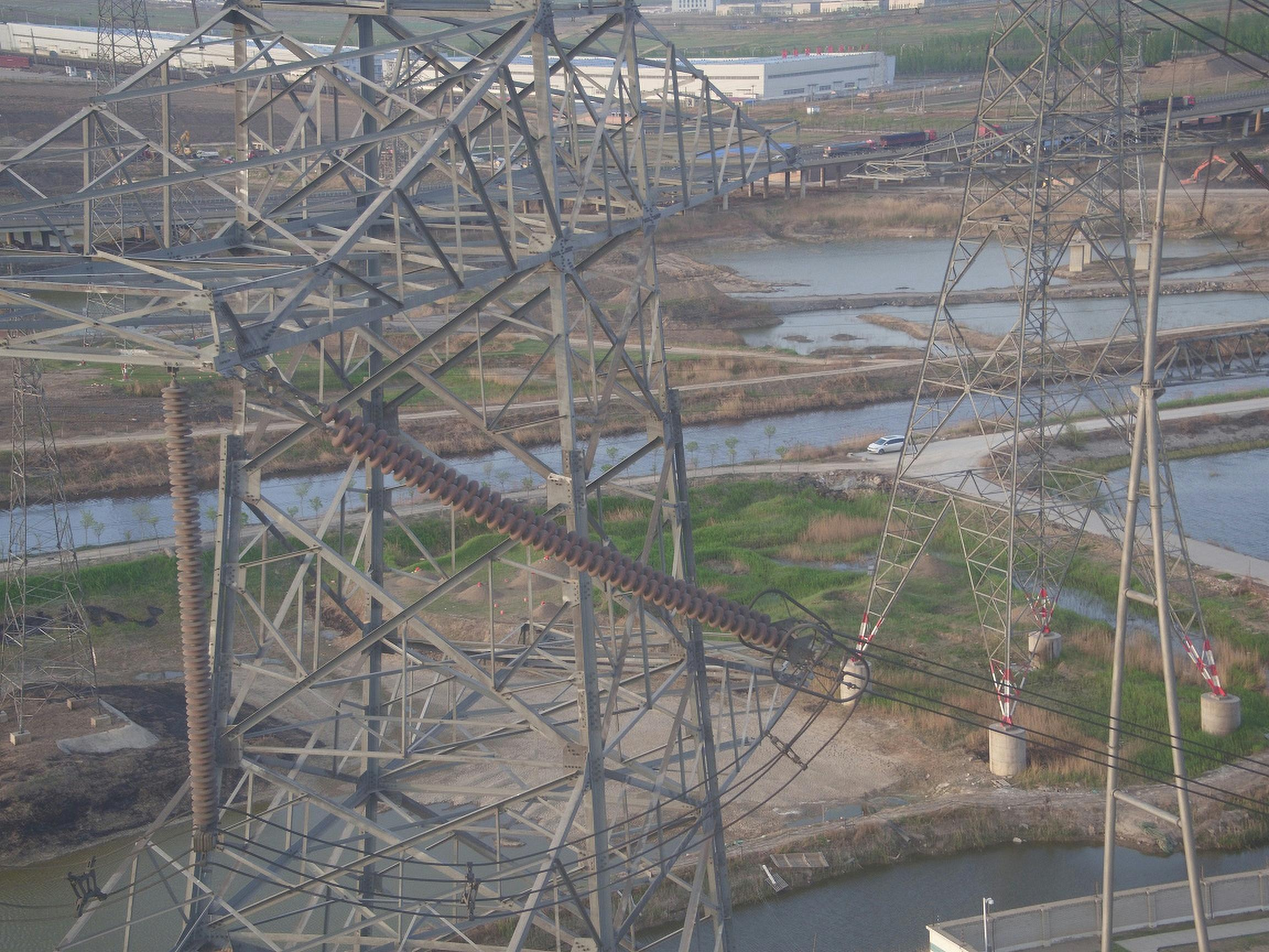insulator: (317, 397, 798, 657), (158, 381, 223, 831), (1228, 149, 1269, 192)
